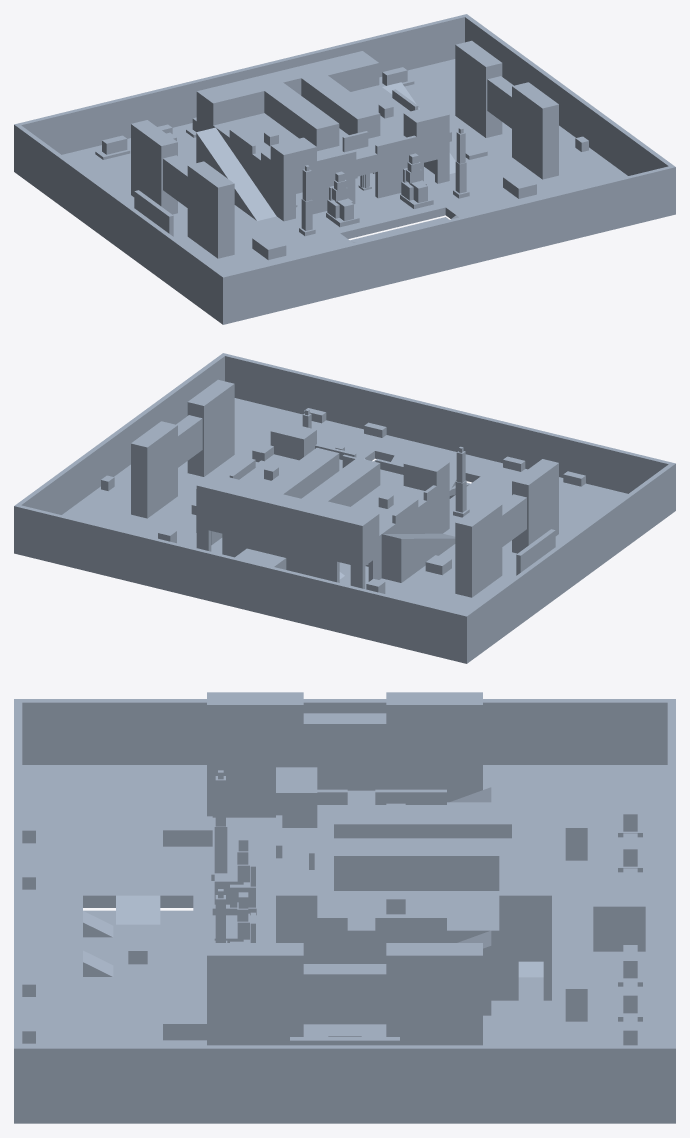
The model's file is suntemple_collision.glb.
The picture shows the model from 3 angles, top to bottom: view 1: azimuth 30°, elevation 25°; view 2: azimuth 150°, elevation 25°; view 3: azimuth 270°, elevation 25°; orthographic projection. The views are drawn at different scales.
Visible parts, largest first — view 1: COL_boundary_z_1, COL_floor_north, COL_boundary_z_-1, COL_boundary_x_-1, COL_boundary_x_1, COL_floor_south, COL_pylon_west_1, COL_pylon_east_1, COL_pylon_east_-1, COL_roof_sanctuary_w, COL_roof_sanctuary_e, COL_pylon_west_-1 (+18 smaller); view 2: COL_boundary_z_-1, COL_boundary_z_1, COL_floor_north, COL_boundary_x_-1, COL_boundary_x_1, COL_floor_south, COL_pylon_west_-1, COL_hall_wall_north_1, COL_pylon_east_-1, COL_pylon_east_1, COL_roof_sanctuary_w, COL_pylon_west_1 (+17 smaller); view 3: COL_boundary_x_1, COL_floor_north, COL_boundary_x_-1, COL_floor_south, COL_floor_court_-1, COL_pylon_west_1, COL_pylon_east_-1, COL_pylon_east_1, COL_pylon_west_-1, COL_roof_sanctuary_e, COL_floor_court_1, COL_hall_roof_1 (+26 smaller).
Boxes of the visible parts, x1=… form: COL_boundary_z_1: x1=225, y1=166, x2=671, y2=315; COL_floor_north: x1=14, y1=59, x2=614, y2=283; COL_boundary_z_-1: x1=19, y1=15, x2=464, y2=154; COL_boundary_x_-1: x1=14, y1=123, x2=227, y2=316; COL_boundary_x_1: x1=462, y1=14, x2=675, y2=207; COL_floor_south: x1=201, y1=206, x2=675, y2=324; COL_pylon_west_1: x1=187, y1=161, x2=234, y2=258; COL_pylon_east_1: x1=512, y1=82, x2=558, y2=179; COL_pylon_east_-1: x1=455, y1=40, x2=502, y2=137; COL_roof_sanctuary_w: x1=248, y1=73, x2=339, y2=151; COL_roof_sanctuary_e: x1=289, y1=63, x2=380, y2=138; COL_pylon_west_-1: x1=131, y1=120, x2=177, y2=214; COL_boundary_z_-1: x1=18, y1=505, x2=464, y2=654; COL_boundary_z_1: x1=225, y1=354, x2=670, y2=493; COL_floor_north: x1=14, y1=450, x2=619, y2=663; COL_boundary_x_-1: x1=462, y1=462, x2=675, y2=655; COL_boundary_x_1: x1=14, y1=353, x2=227, y2=546; COL_floor_south: x1=234, y1=398, x2=675, y2=526; COL_pylon_west_-1: x1=455, y1=500, x2=502, y2=597; COL_hall_wall_north_1: x1=222, y1=517, x2=339, y2=582; COL_pylon_east_-1: x1=131, y1=421, x2=177, y2=518; COL_pylon_east_1: x1=187, y1=379, x2=234, y2=476; COL_roof_sanctuary_w: x1=288, y1=457, x2=380, y2=535; COL_pylon_west_1: x1=512, y1=459, x2=558, y2=553; COL_boundary_x_1: x1=14, y1=1045, x2=675, y2=1111; COL_floor_north: x1=193, y1=765, x2=675, y2=1123; COL_boundary_x_-1: x1=14, y1=699, x2=675, y2=764; COL_floor_south: x1=14, y1=765, x2=82, y2=1123; COL_floor_court_-1: x1=83, y1=765, x2=193, y2=907; COL_pylon_west_1: x1=207, y1=692, x2=303, y2=817; COL_pylon_east_-1: x1=386, y1=943, x2=482, y2=1045; COL_pylon_east_1: x1=207, y1=943, x2=303, y2=1045; COL_pylon_west_-1: x1=386, y1=692, x2=482, y2=802; COL_roof_sanctuary_e: x1=334, y1=838, x2=551, y2=890; COL_floor_court_1: x1=83, y1=977, x2=193, y2=1123; COL_hall_roof_1: x1=276, y1=873, x2=551, y2=935.
Size of the model in its own units: 60 by 11.2 by 48.
